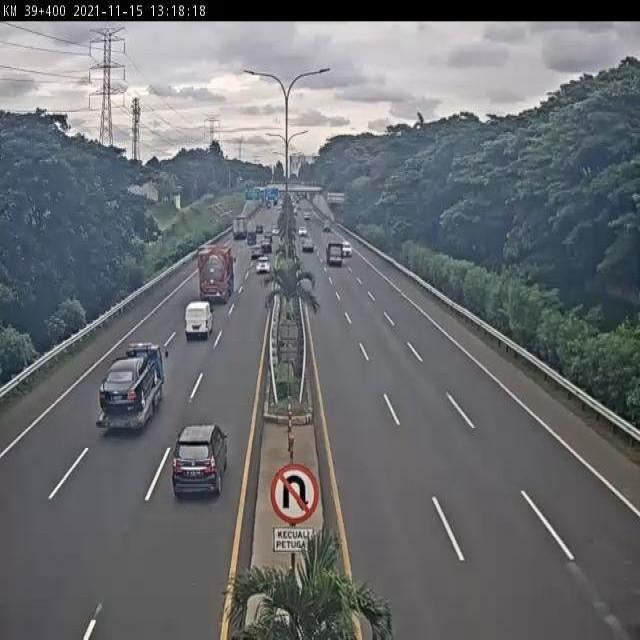car: (169, 423, 230, 500)
truck: (95, 343, 165, 432), (199, 246, 235, 306), (184, 300, 215, 340)
